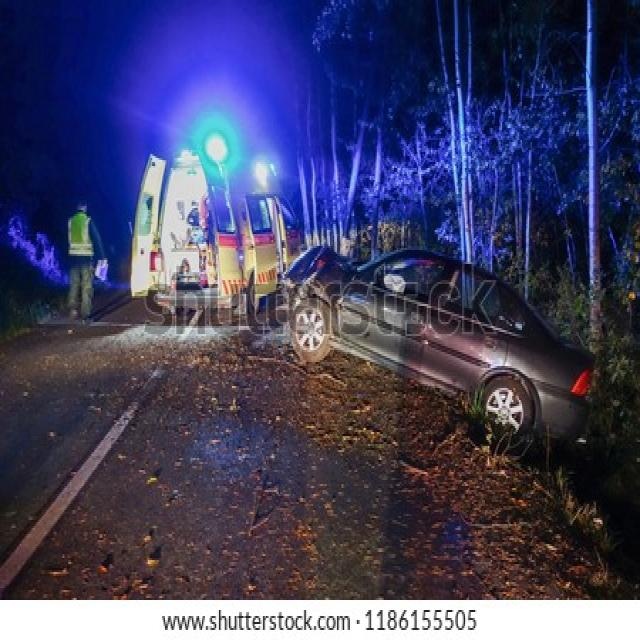Accident: (119, 118, 602, 467)
